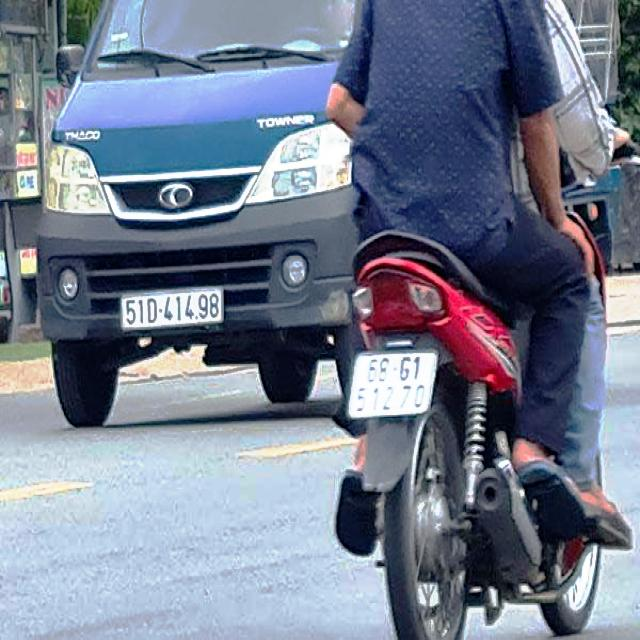license_plate: (348, 351, 436, 418), (118, 285, 227, 336)
